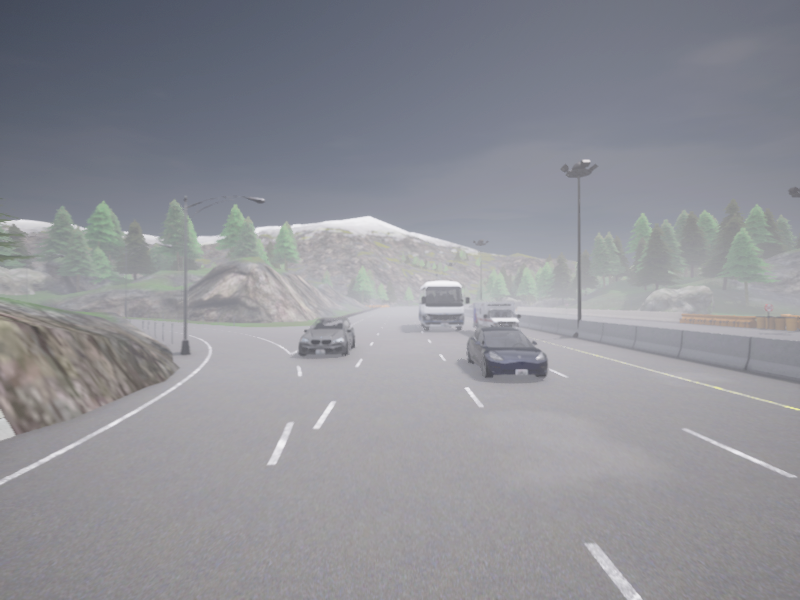vehicle: (466, 327, 547, 378), (418, 281, 469, 331), (298, 317, 355, 356), (473, 302, 520, 329)
